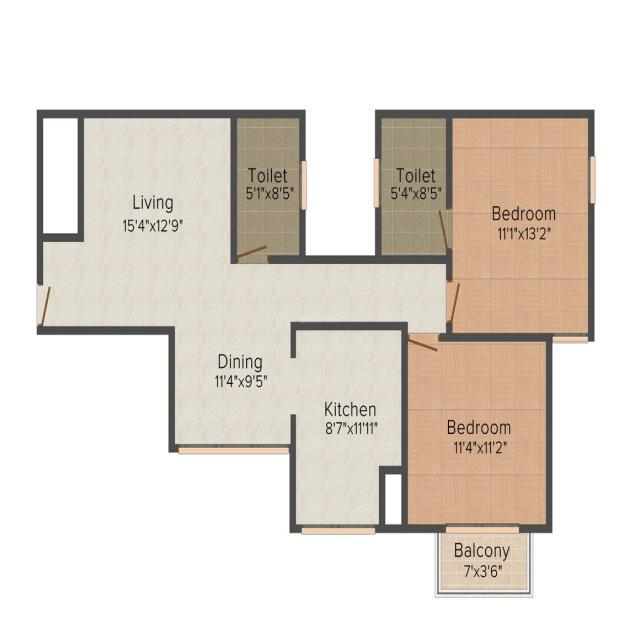Balcony-Sitout: (441, 536, 526, 587)
Bedroom: (407, 342, 546, 525)
Bedroom with Toilet: (378, 116, 587, 331)
Enterance-Foyer: (38, 287, 81, 324)
Kitchen: (296, 332, 401, 526)
Living: (75, 110, 239, 340)
Toilet: (383, 118, 445, 251), (237, 119, 299, 252)
